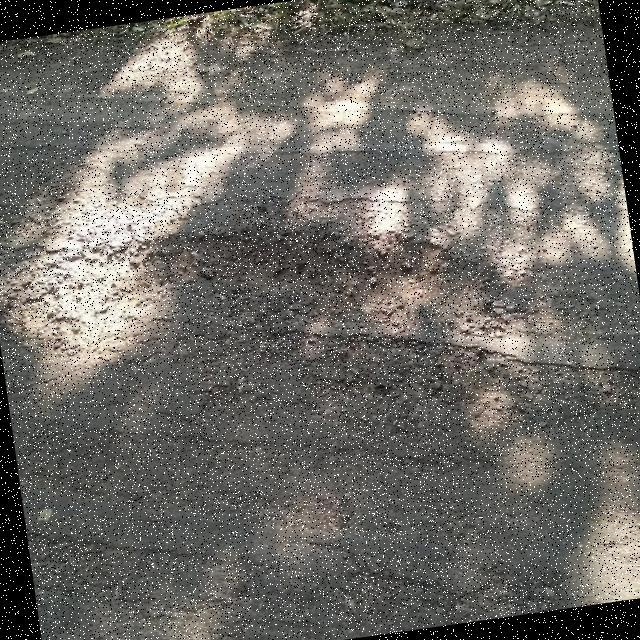Pothole: (0, 172, 640, 476)
